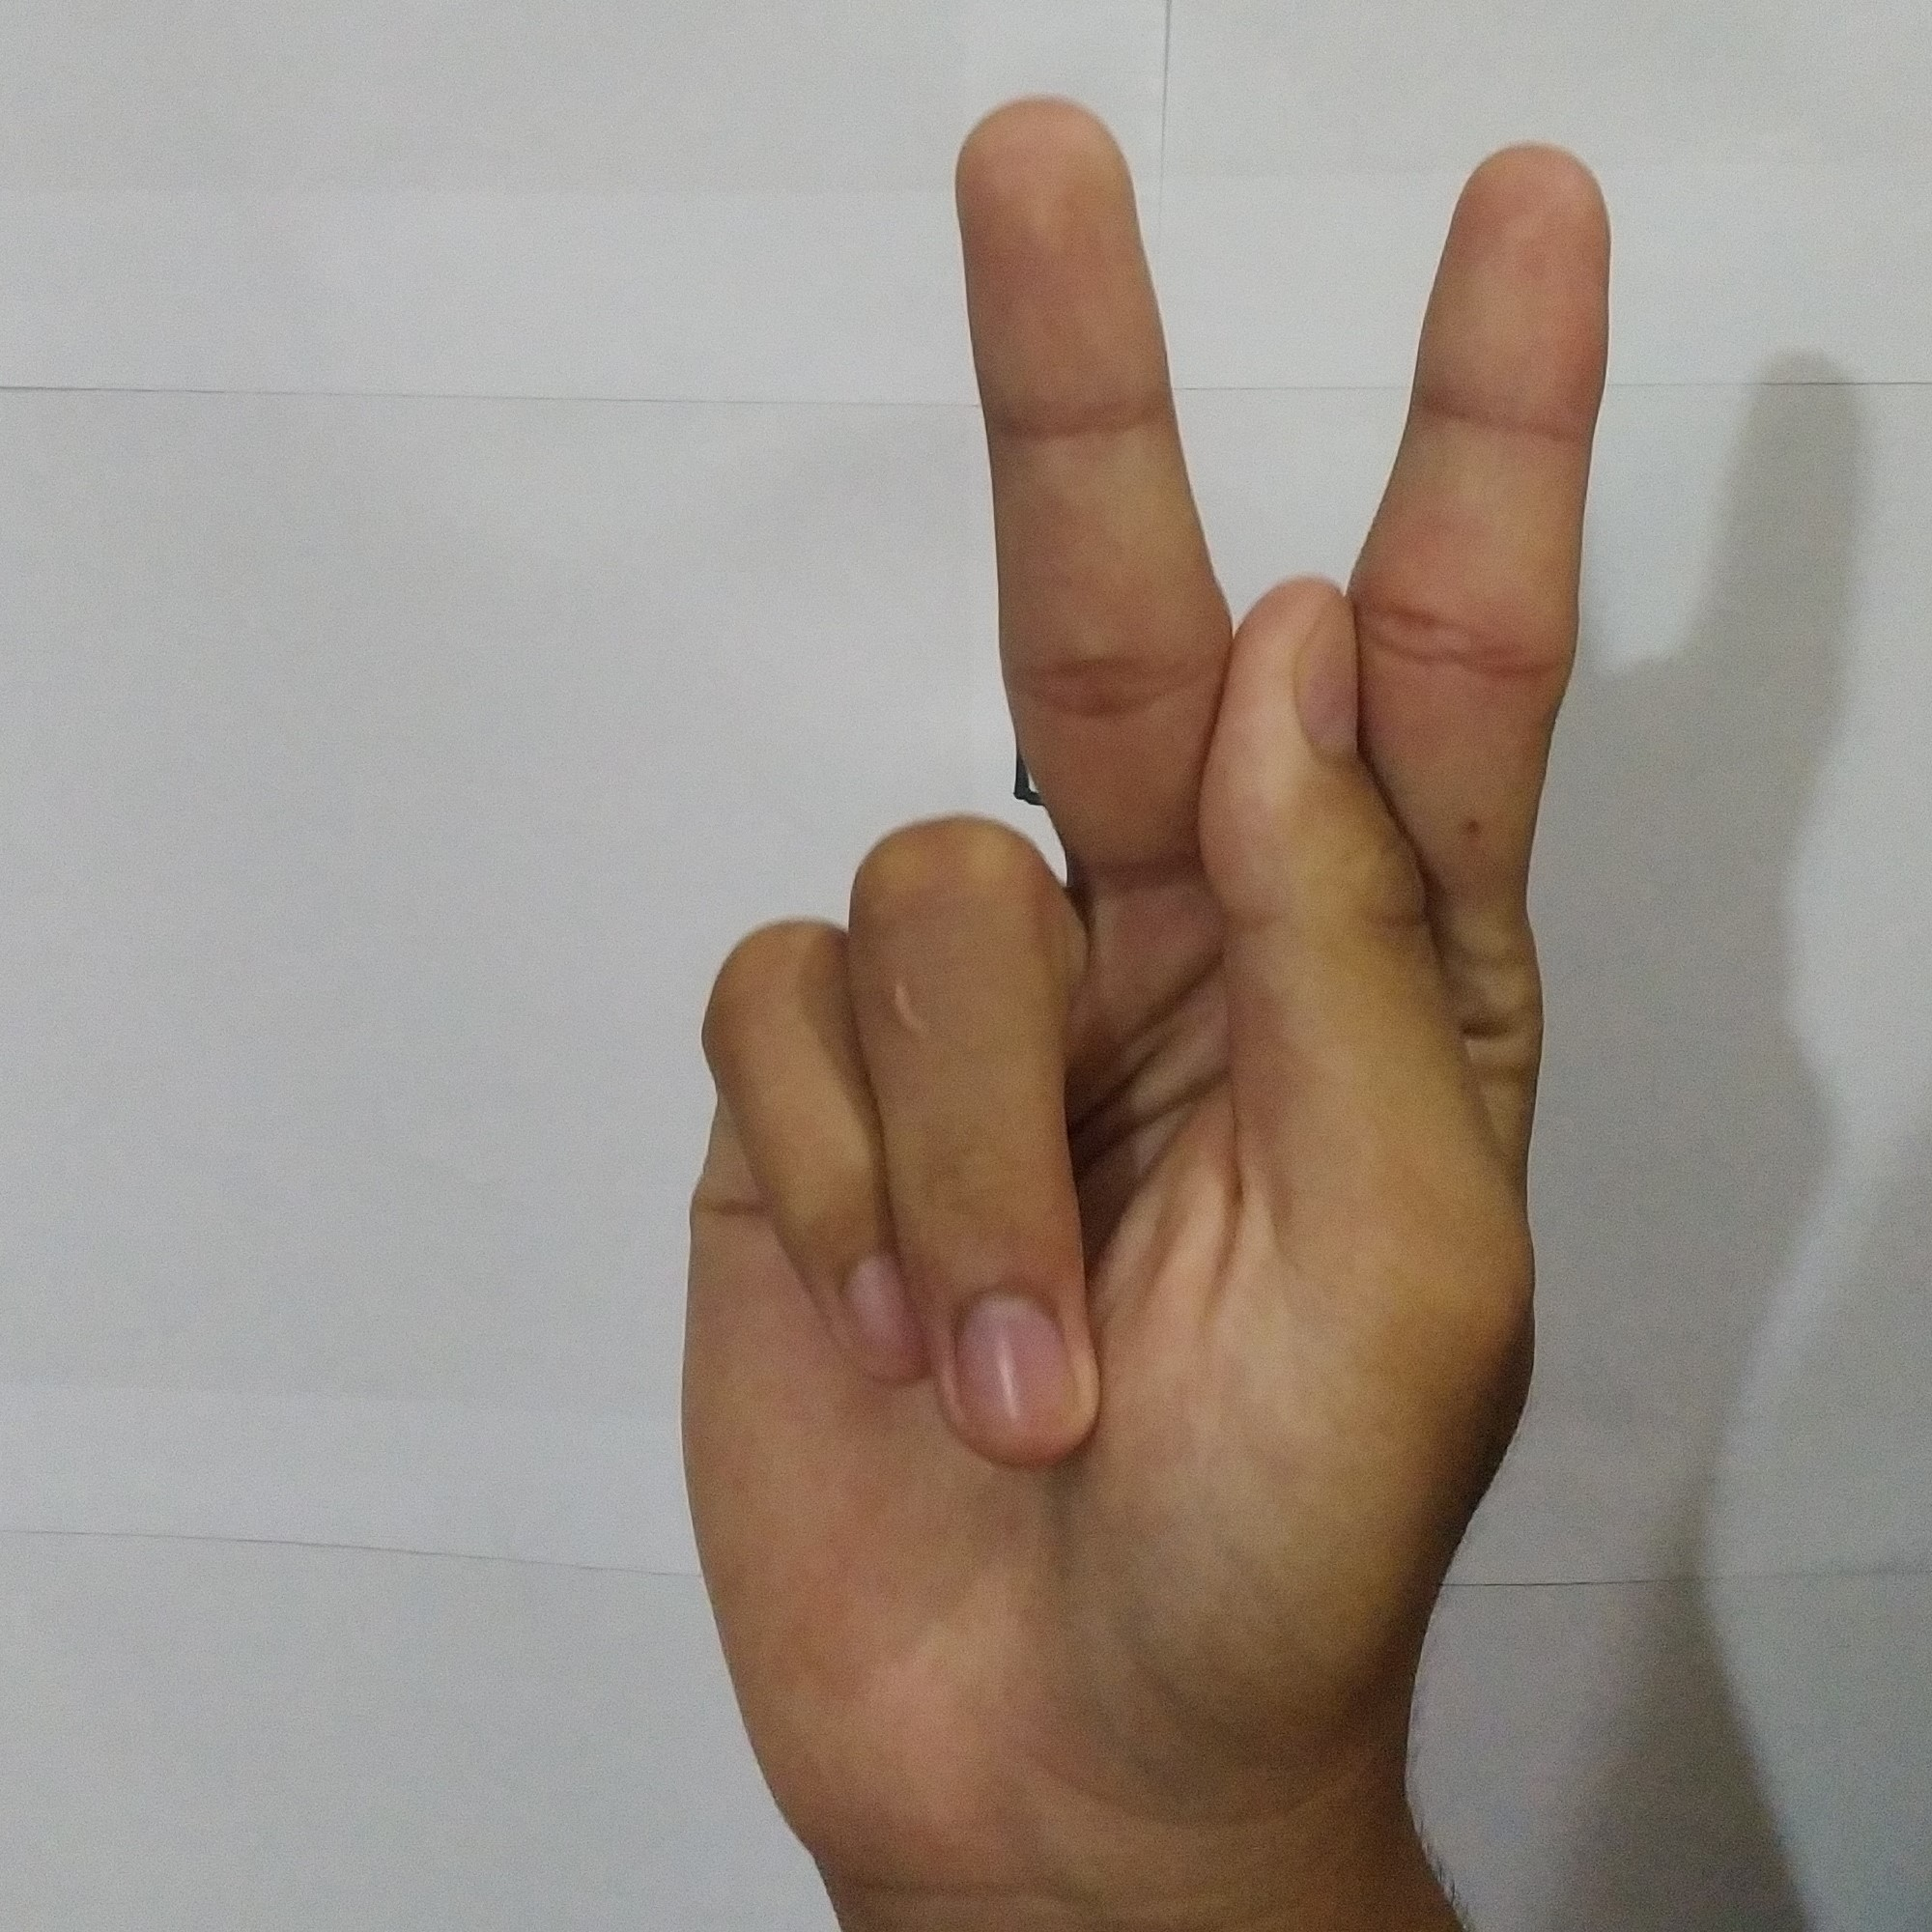K: (653, 67, 1642, 1746)
